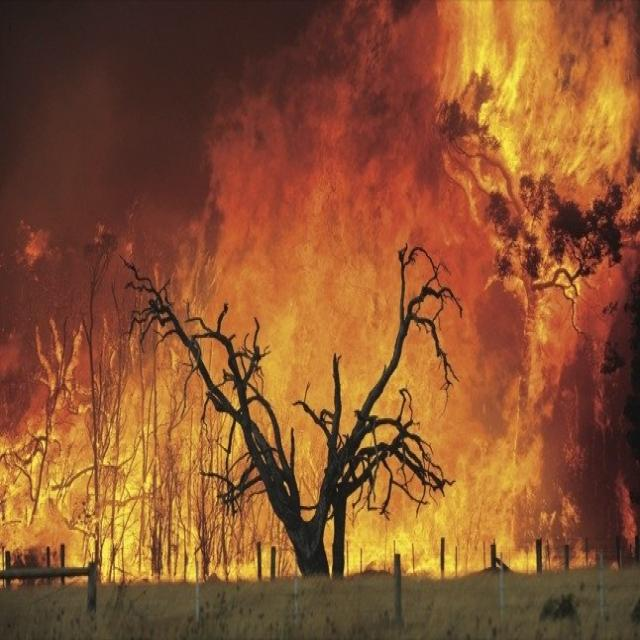Fire: (128, 0, 497, 513), (48, 298, 297, 585), (430, 0, 640, 299), (349, 387, 586, 569), (339, 467, 468, 572)
